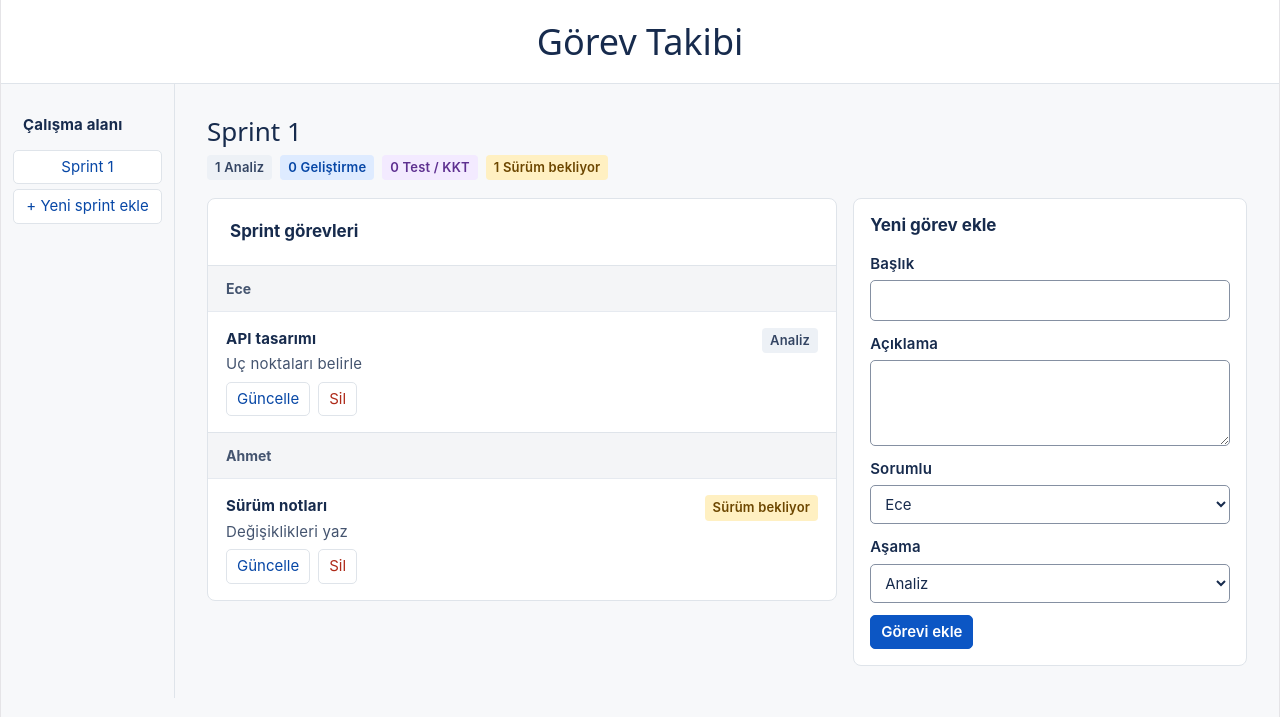
Scenario: App › yeni görev ekler ve formu temizler
The image size is (1280, 717).
Check: the text "API tasarımı" is shown, box [226,329,316,348]
Type "Testleri yaz" into the field labelled "Başlık" at (1050, 301), box [870,280,1230,321]
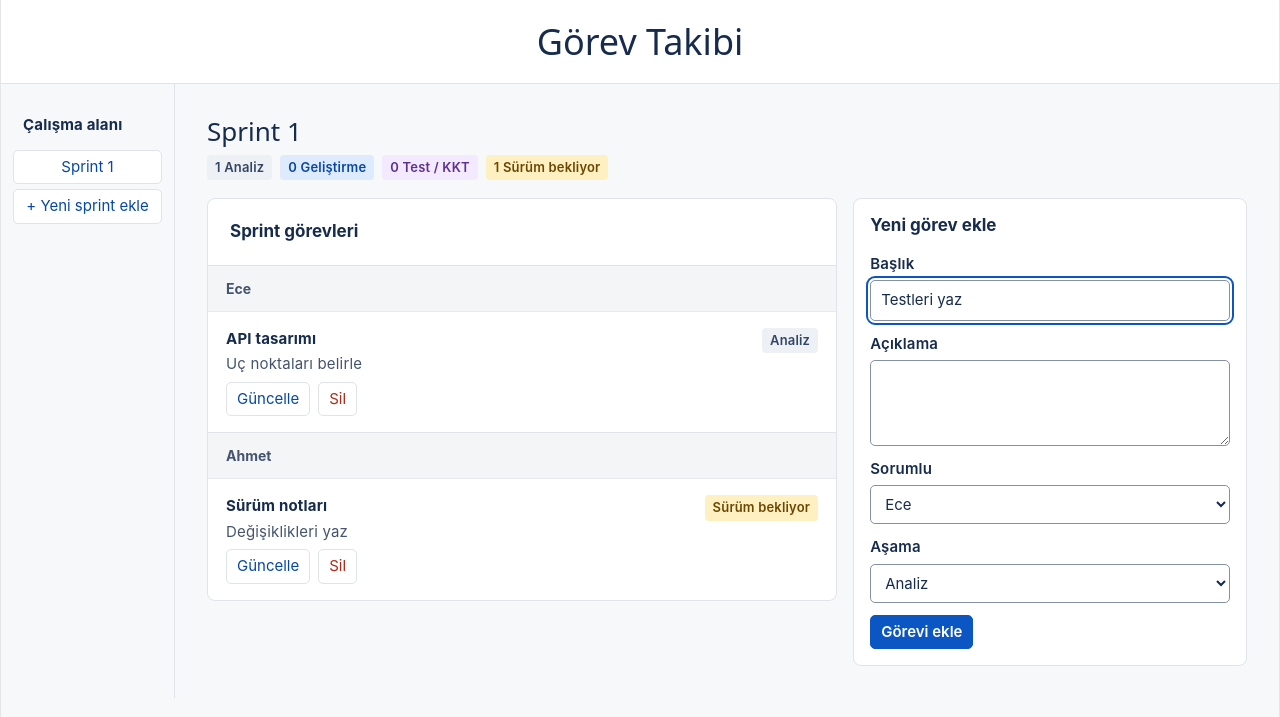
Type "Vitest ile" into the text box labelled "Açıklama" at (1050, 403), box [870,360,1230,446]
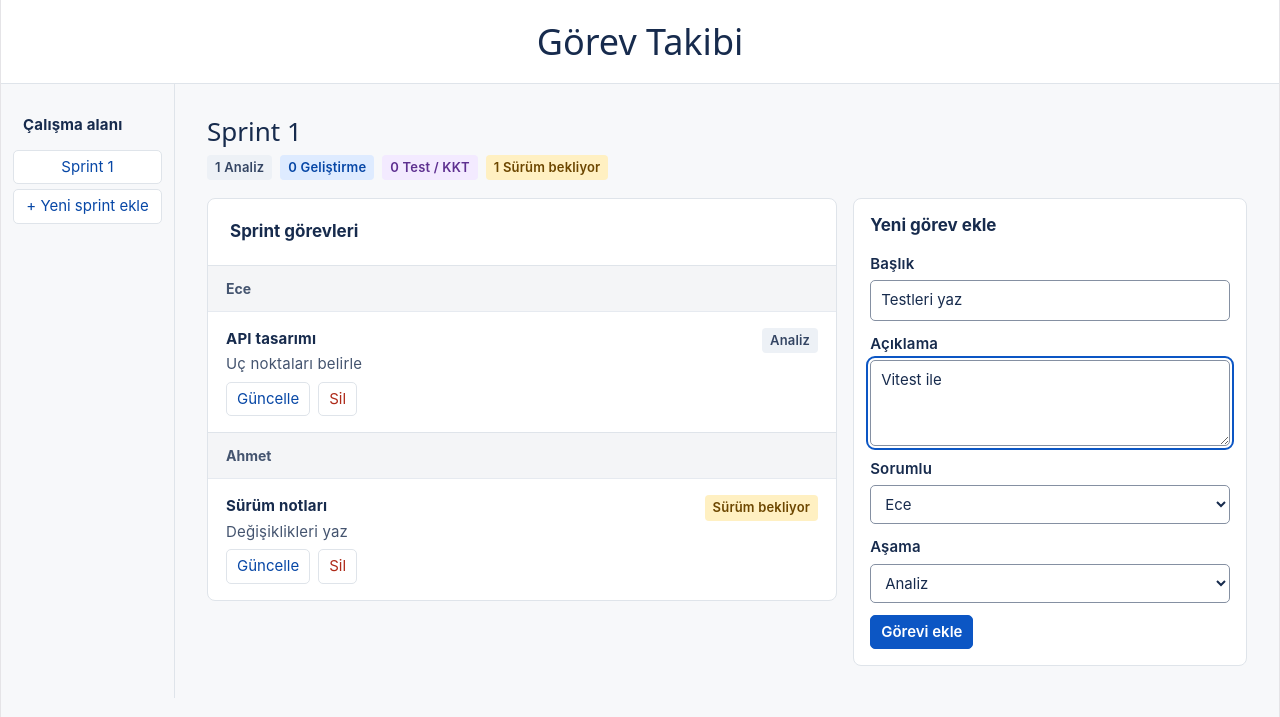
Select "Mehmet" in the dropdown labelled "Sorumlu" at (1050, 505), box [870,485,1230,524]
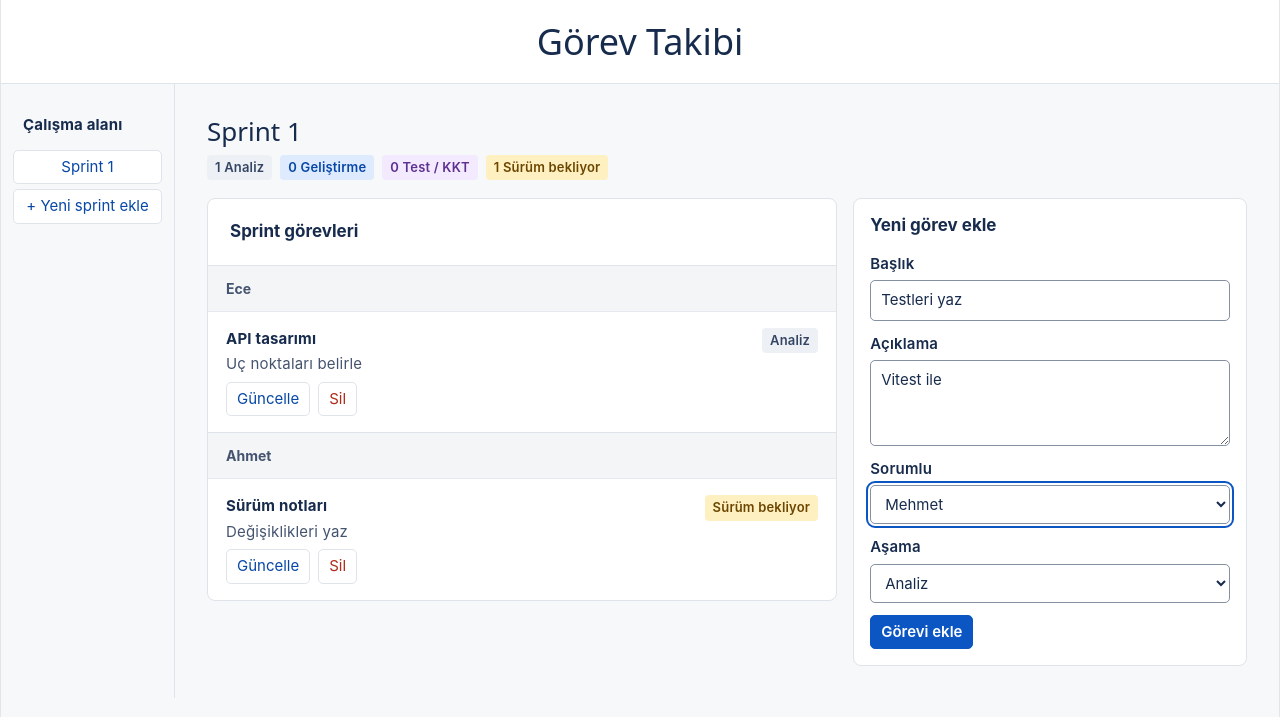
Select "Geliştirme" in the dropdown labelled "Aşama" at (1050, 583), box [870,564,1230,603]
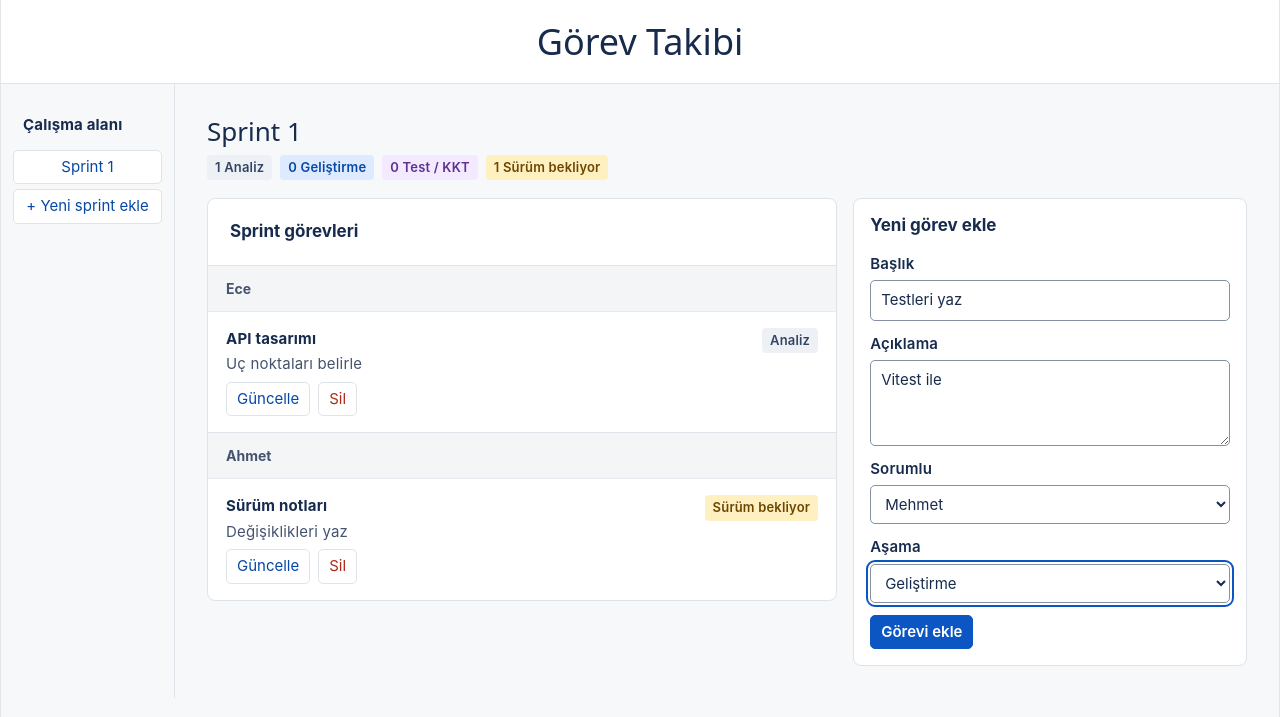
Click the button "Görevi ekle" at (922, 632), box [870,615,973,649]
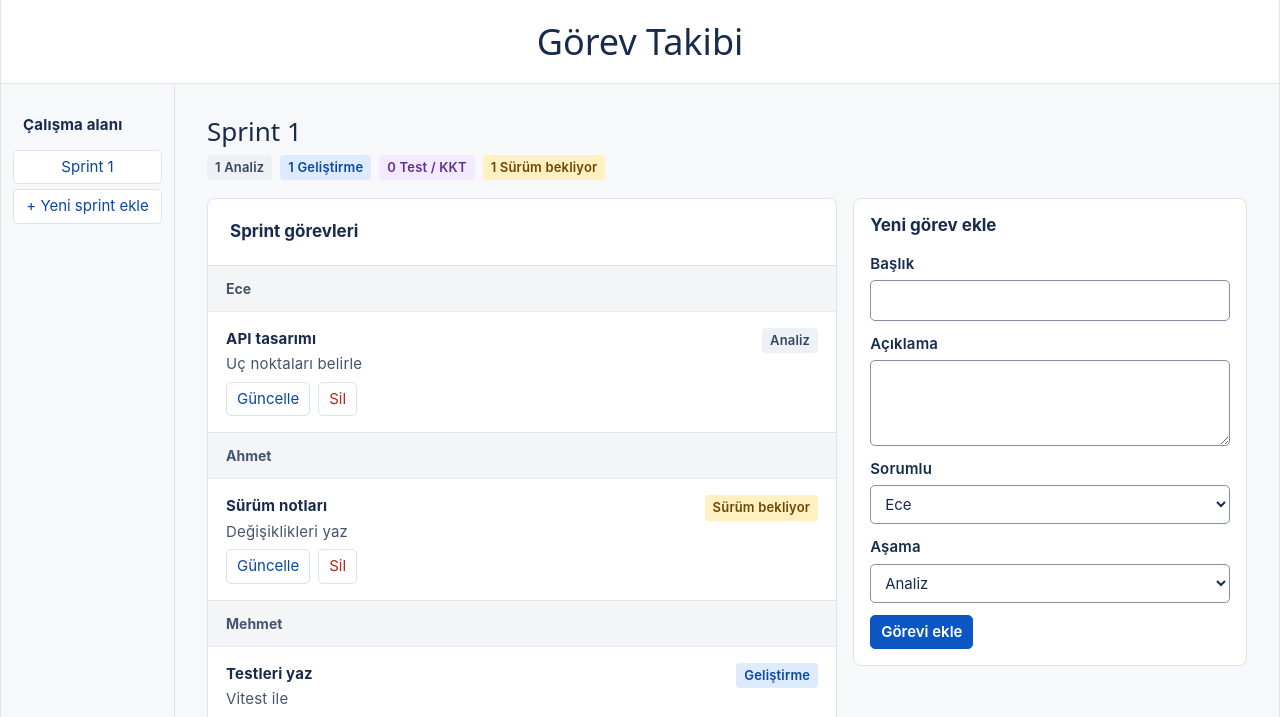
Check: the text "Testleri yaz" is shown, box [226,664,313,683]
Check: the text "Geliştirme" is shown, box [736,663,818,688]
Check: the field labelled "Başlık" is empty, box [870,280,1230,321]
